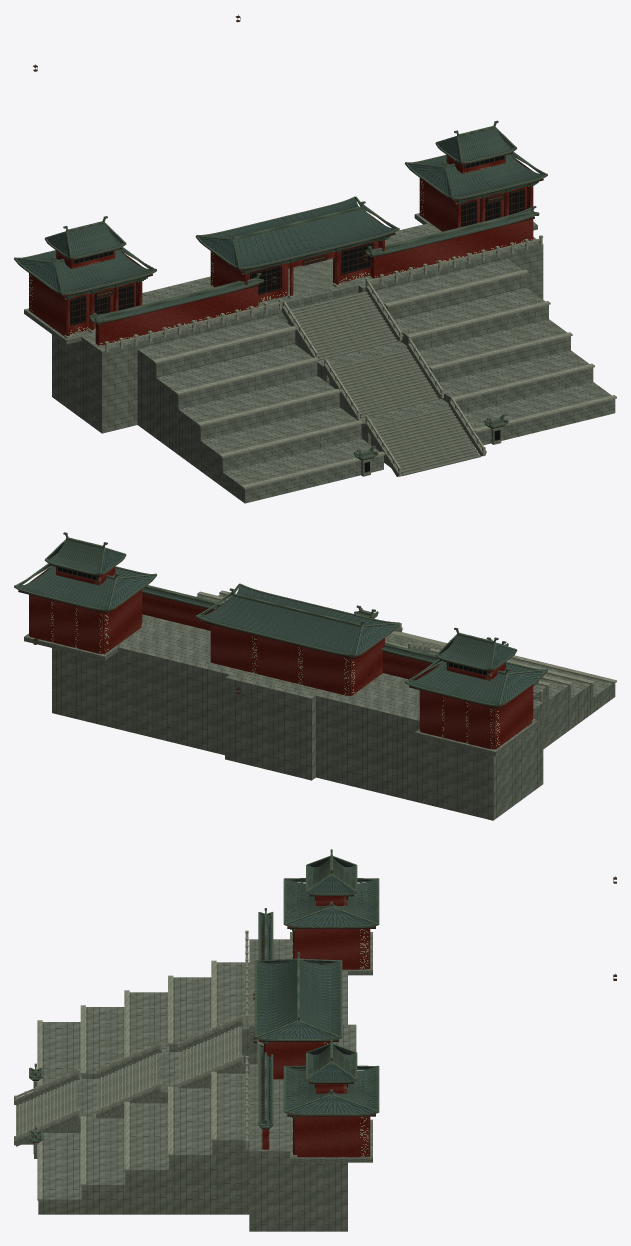
File: temple_facade.glb
3 views of the same model, one above another, from view 1: azimuth 30°, elevation 25°; view 2: azimuth 150°, elevation 25°; view 3: azimuth 270°, elevation 25° (orthographic).
Visible parts, largest first — view 1: temple_facade0, temple_facade1; view 2: temple_facade0, temple_facade1; view 3: temple_facade0, temple_facade1.
Boxes of the visible parts, x1,y1,x2,y2 form: temple_facade0: (24,196,616,503); temple_facade1: (14,120,547,476); temple_facade0: (52,583,616,820); temple_facade1: (14,532,547,708); temple_facade0: (14,908,372,1231); temple_facade1: (29,849,379,1162).
Size of the model in its own units: 67.24 by 27 by 73.37.
1 material, 1 textured.
